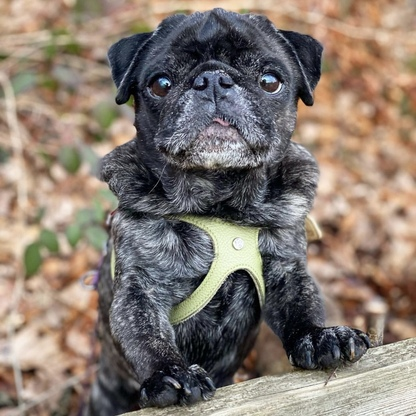Pug: (78, 3, 380, 416)
